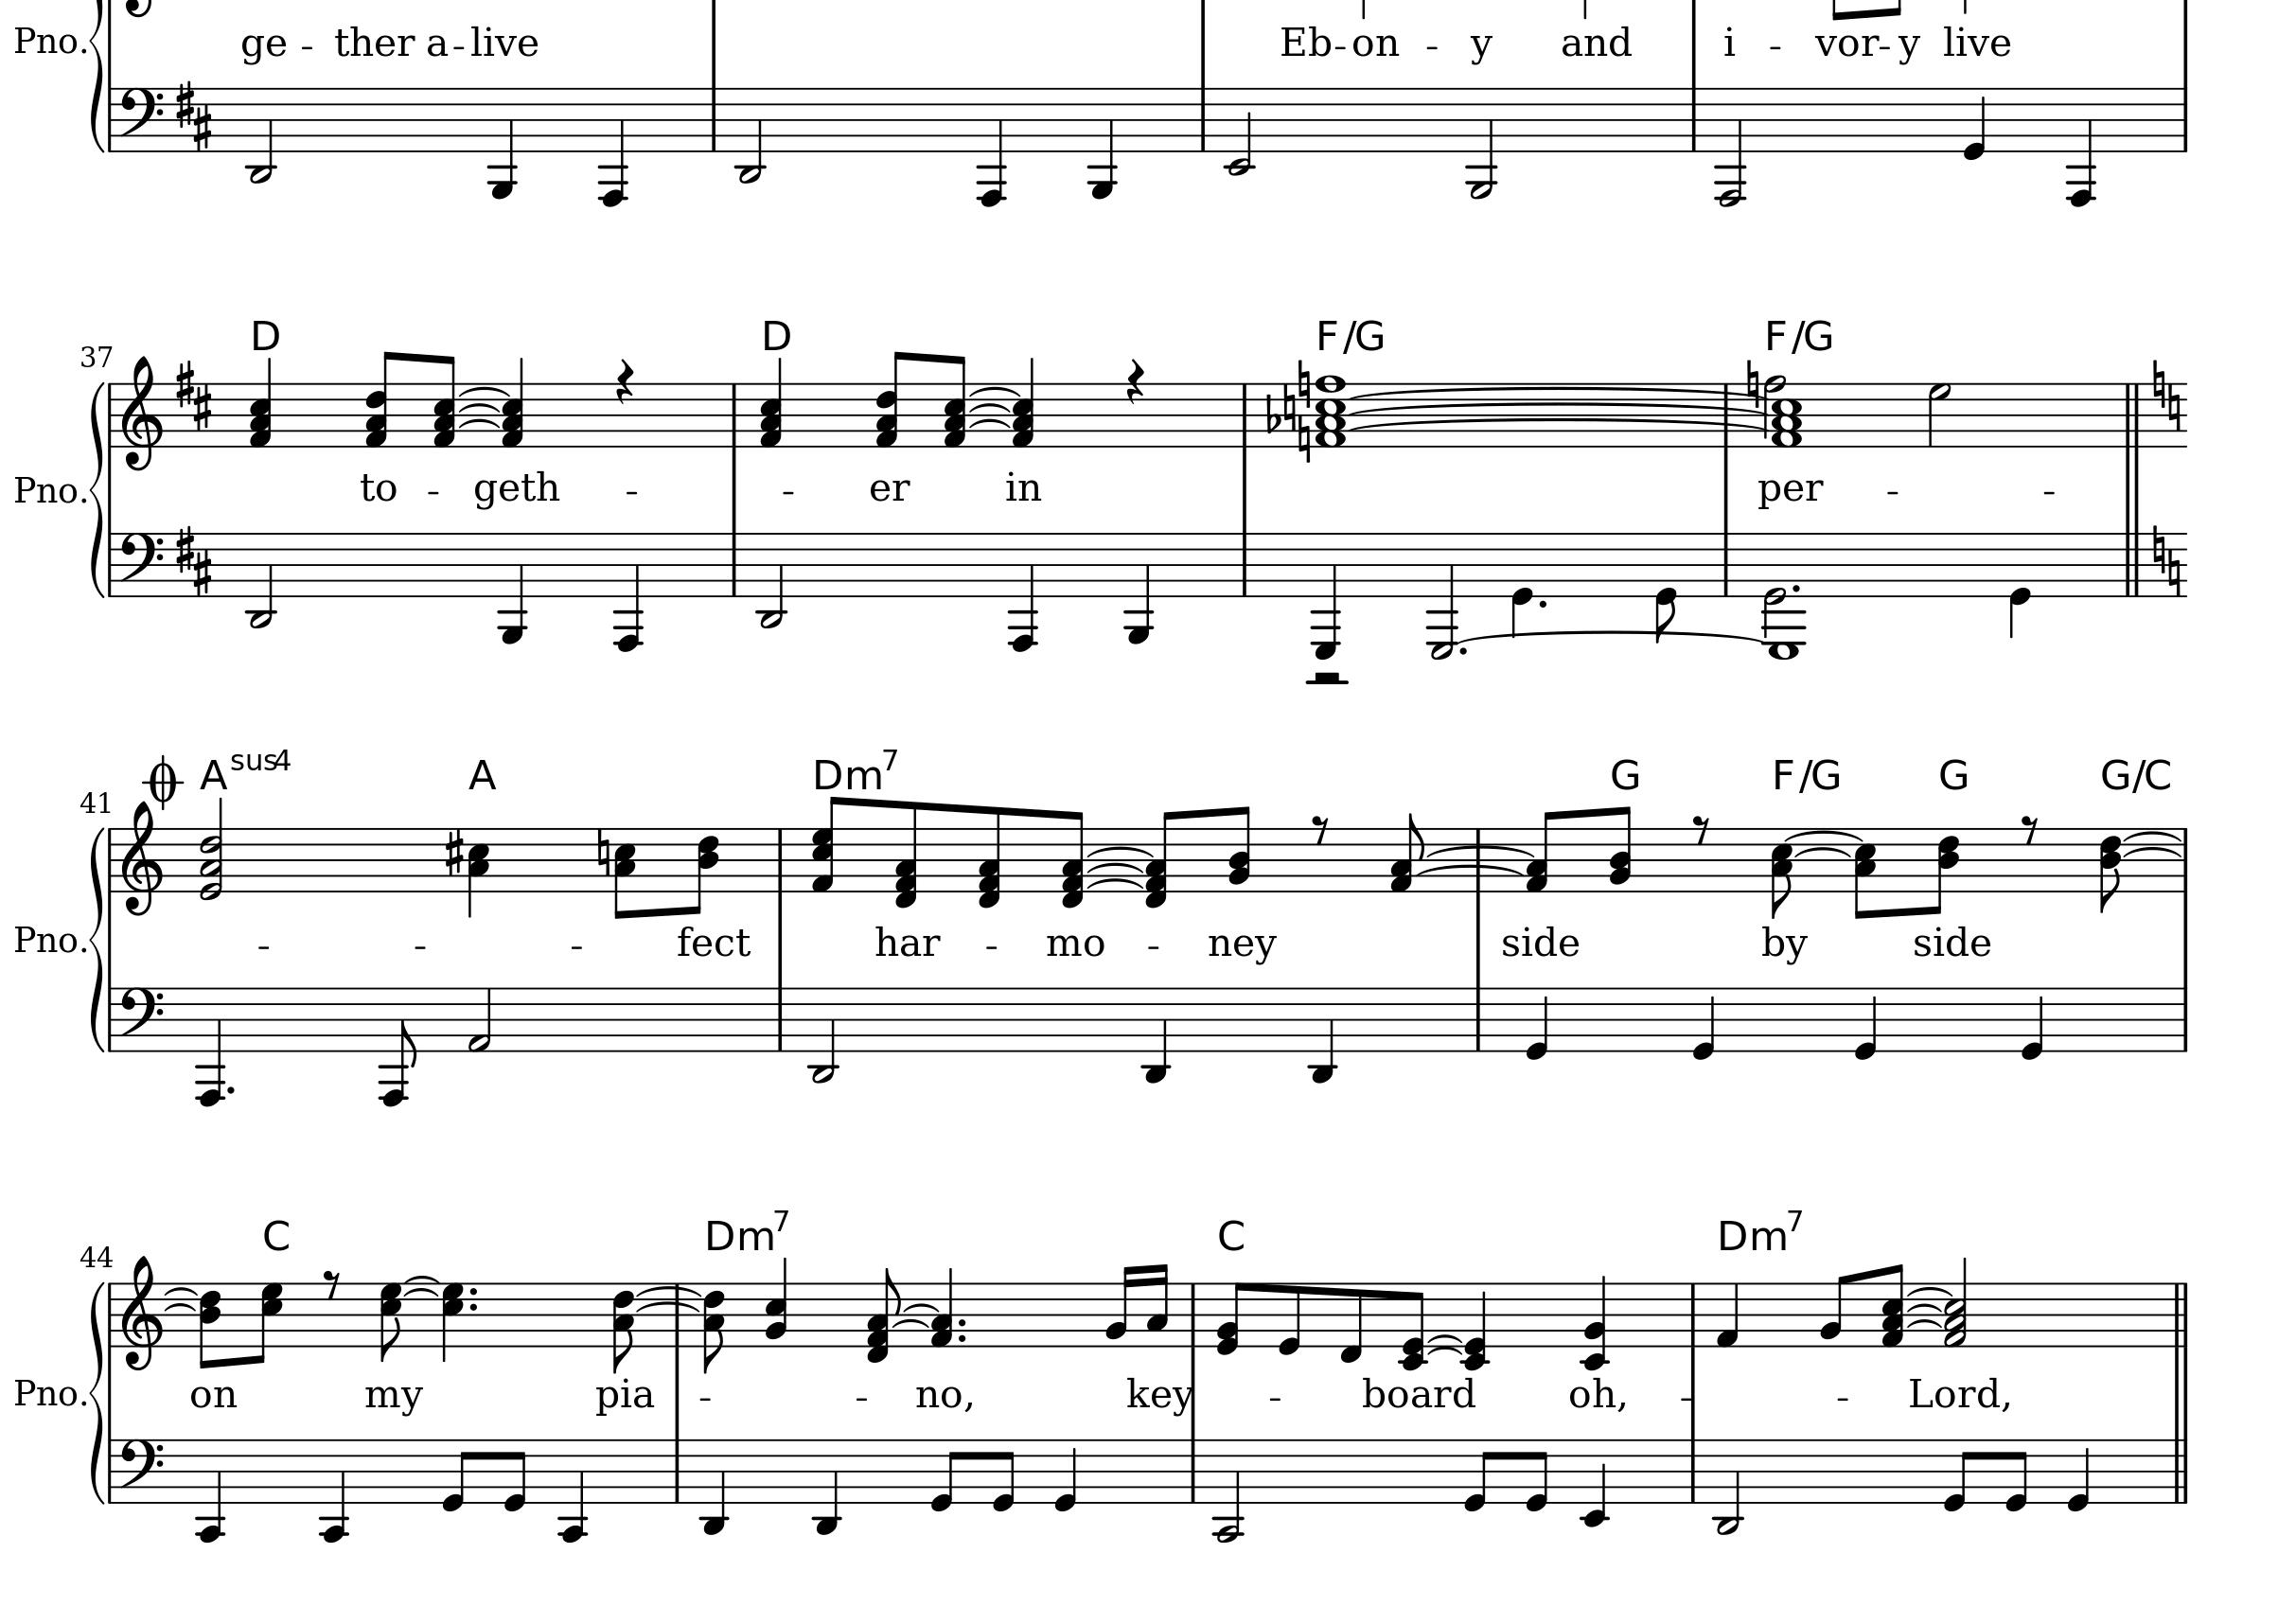1: (97, 789, 112, 816)
16_2: (1105, 1262, 1135, 1348)
16_3: (1145, 1262, 1168, 1348)
1_4th: (1314, 371, 1346, 448)
1_th: (1771, 380, 1802, 450)
2_-2: (1224, 84, 1256, 178)
2_-3: (755, 531, 789, 629), (246, 84, 278, 186), (734, 84, 766, 186), (246, 531, 278, 631), (808, 984, 840, 1084), (1713, 1436, 1743, 1536)
2_-4: (1214, 1436, 1244, 1545)
2_-5: (1467, 83, 1498, 200)
2_-6: (1715, 84, 1744, 207)
2_-7: (1425, 531, 1460, 659)
2_1: (467, 986, 494, 1055)
2_7: (1927, 380, 1952, 448)
2_th: (199, 794, 225, 903), (1945, 1257, 1971, 1348)
3: (77, 343, 95, 371)
4: (95, 1243, 114, 1269), (79, 789, 95, 816), (79, 1243, 95, 1269)
4_-2: (1579, 1436, 1609, 1527)
4_-2_0: (1460, 1281, 1493, 1371)
4_-2_2: (1579, 1274, 1611, 1373)
4_-3: (1307, 982, 1337, 1086), (1142, 982, 1170, 1084), (699, 1434, 727, 1536), (812, 1434, 840, 1536)
4_-4: (193, 1436, 227, 1543), (318, 1436, 350, 1543), (557, 1436, 588, 1541)
4_-5: (487, 84, 520, 202), (1086, 84, 1119, 202), (1123, 531, 1156, 645), (497, 531, 529, 645)
4_-6: (597, 83, 631, 207), (611, 529, 645, 654), (977, 84, 1008, 207), (1008, 529, 1040, 652), (2066, 84, 2096, 207), (195, 984, 225, 1107)
4_-7: (1310, 529, 1342, 661)
4_0: (1509, 531, 1534, 638), (2008, 531, 2031, 636), (1523, 984, 1549, 1062), (2018, 984, 2045, 1062), (1052, 1436, 1079, 1512), (2066, 1436, 2092, 1512), (1962, 84, 1987, 162), (1692, 984, 1716, 1062), (1853, 984, 1878, 1062)
4_1: (1716, 1281, 1741, 1348)
4_1_3: (929, 1265, 954, 1350)
4_2_5: (766, 1258, 789, 1352)
4_3_5: (467, 828, 492, 919)
4_5_7: (441, 1281, 466, 1362)
4_th: (873, 350, 913, 450), (249, 353, 274, 448), (759, 355, 783, 450), (502, 357, 525, 446), (1014, 357, 1036, 446)
7: (95, 341, 114, 369), (771, 1204, 791, 1232), (1785, 1204, 1804, 1232), (880, 743, 898, 772)
8_-1: (1337, 1280, 1363, 1364)
8_-2_0: (1397, 1281, 1432, 1373)
8_-6: (379, 984, 416, 1106)
8_0: (1653, 531, 1678, 643), (1462, 1436, 1497, 1512), (441, 1436, 473, 1512), (929, 1436, 961, 1512), (1943, 1436, 1975, 1512), (991, 1436, 1017, 1513), (502, 1436, 529, 1512), (1523, 1436, 1549, 1512), (2004, 1436, 2031, 1512), (1277, 1281, 1302, 1357)
8_0_2: (1212, 1281, 1254, 1357)
8_1_3: (1390, 810, 1428, 895), (1523, 812, 1558, 891)
8_2: (1818, 1271, 1850, 1348)
8_2_4: (1226, 803, 1254, 895), (1609, 805, 1635, 895)
8_3_5: (1852, 826, 1878, 921), (1769, 826, 1794, 921), (615, 828, 639, 921)
8_3_6: (611, 1280, 638, 1374), (701, 1280, 726, 1374)
8_4_6: (689, 826, 722, 916), (1931, 824, 1960, 917), (199, 1280, 223, 1373), (2097, 824, 2122, 916)
8_5_7: (249, 1281, 286, 1364), (378, 1281, 404, 1367)
8_th: (364, 350, 406, 450), (1145, 810, 1188, 909), (864, 1269, 901, 1362), (812, 796, 845, 895), (892, 805, 921, 909), (977, 807, 1003, 910), (1059, 808, 1084, 909), (432, 353, 457, 450), (943, 355, 968, 450), (1881, 1264, 1904, 1348)
Brace: (88, 823, 105, 1053), (88, 1280, 105, 1504)
Coda: (141, 752, 183, 808)
D_S: (174, 360, 216, 431), (174, 524, 213, 596), (176, 77, 213, 149)
Double_barline: (2120, 531, 2145, 596), (2170, 1438, 2192, 1503), (2120, 385, 2143, 448)
Double_dot: (2170, 1283, 2192, 1346)
Fclef: (118, 84, 165, 153), (118, 986, 165, 1055), (118, 1436, 165, 1504), (119, 531, 165, 598)
Flat: (1265, 394, 1279, 434)
Gclef: (119, 1251, 163, 1371), (119, 355, 163, 471), (119, 801, 163, 916)
Natural: (2152, 522, 2168, 582), (2166, 545, 2182, 596), (2152, 359, 2166, 415), (596, 828, 610, 879), (1296, 359, 1310, 410), (1281, 380, 1295, 431), (1296, 413, 1310, 464), (2166, 383, 2180, 432), (1748, 359, 1760, 410)
Pno: (11, 23, 79, 63), (12, 471, 79, 511), (14, 921, 77, 958), (14, 1374, 77, 1411)
Rests1: (1309, 668, 1349, 685)
Rests4: (613, 357, 636, 406), (1124, 357, 1145, 406)
Rests8: (1690, 812, 1713, 844), (1309, 812, 1330, 845), (2020, 812, 2041, 844), (321, 1267, 341, 1299)
Sharp: (443, 826, 464, 877)
Single_barline: (704, 88, 724, 151), (1235, 383, 1254, 446), (724, 533, 743, 596), (771, 828, 791, 891), (1469, 986, 1488, 1049), (1195, 88, 1212, 151), (1685, 88, 1702, 151), (726, 383, 743, 446), (1235, 533, 1253, 596), (1469, 826, 1486, 889), (1685, 1283, 1702, 1346), (771, 988, 789, 1049), (1186, 1438, 1202, 1503), (104, 88, 119, 151), (2177, 88, 2192, 151), (104, 383, 119, 446), (1718, 533, 1734, 596), (104, 533, 119, 596), (2178, 826, 2194, 889), (1186, 1281, 1202, 1345), (669, 1438, 685, 1501), (1685, 1438, 1700, 1501), (1718, 383, 1734, 445), (2177, 988, 2192, 1049), (104, 1438, 118, 1503), (104, 828, 118, 891), (104, 988, 118, 1051), (104, 1281, 118, 1345)
Slur: (1414, 863, 1528, 881), (1089, 847, 1145, 870), (634, 1285, 704, 1301), (638, 1297, 699, 1313), (1785, 830, 1860, 842), (1794, 844, 1852, 859), (2122, 844, 2180, 859), (2120, 830, 2184, 844), (1086, 844, 1154, 856), (457, 385, 511, 397), (968, 385, 1022, 397), (1089, 877, 1144, 889), (1087, 861, 1145, 872), (402, 1283, 439, 1299), (1908, 1283, 1955, 1295), (402, 1274, 443, 1288), (458, 401, 502, 413), (970, 401, 1012, 413), (1908, 1301, 1945, 1313), (891, 1316, 933, 1327), (163, 1285, 199, 1297), (163, 1299, 199, 1311), (458, 417, 499, 427), (970, 417, 1008, 427), (1906, 1316, 1943, 1327), (1426, 1346, 1462, 1357), (898, 1302, 938, 1311)
dot: (1790, 582, 1802, 594), (1535, 596, 1548, 608), (225, 1084, 237, 1097), (467, 1285, 480, 1297), (467, 1299, 480, 1311), (956, 1316, 968, 1327), (956, 1332, 968, 1343), (1458, 645, 1469, 656)
